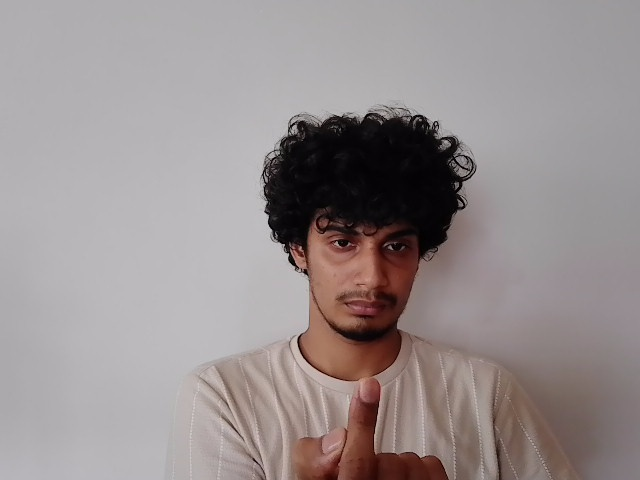just: (286, 379, 456, 480)
